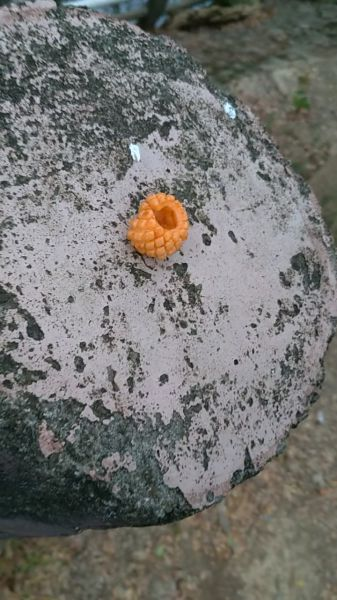eggs: (123, 191, 193, 261)
